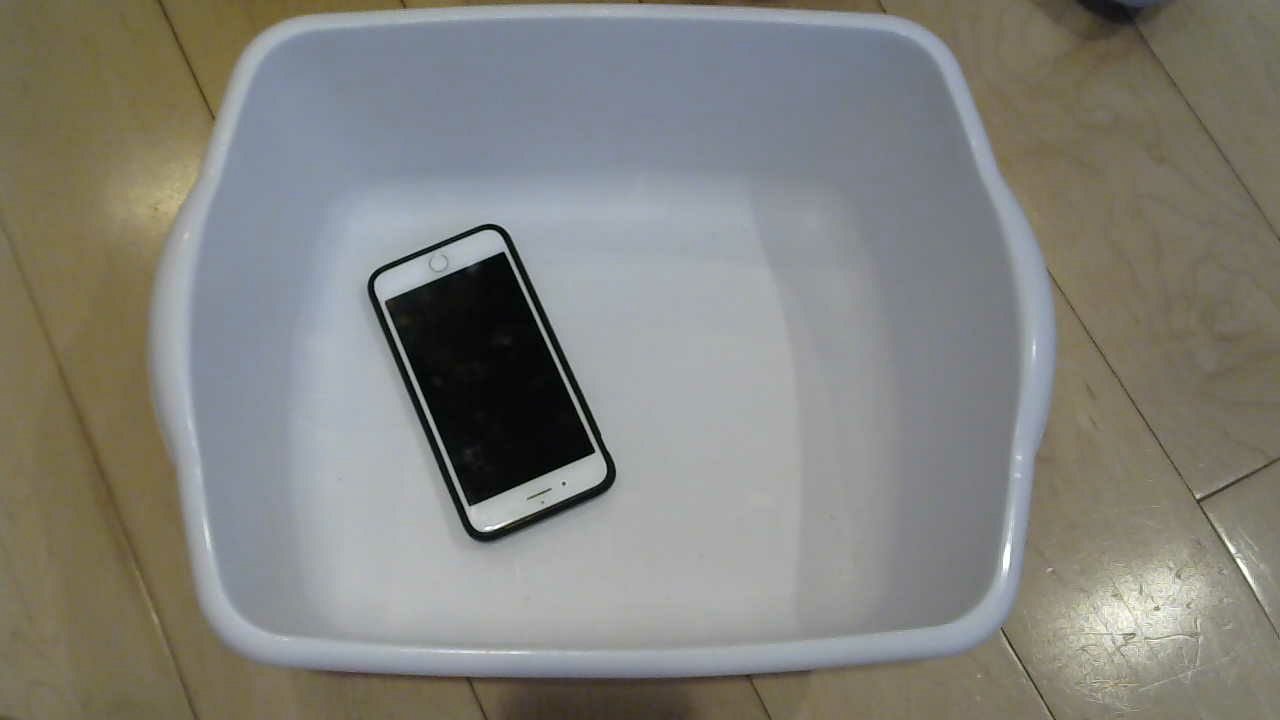phone: (351, 222, 630, 556)
